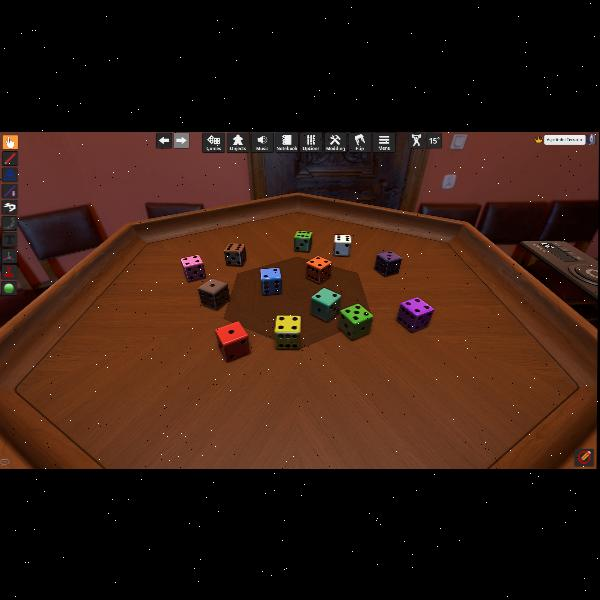d6: (214, 320, 249, 362), (339, 303, 372, 340), (397, 296, 430, 332), (197, 278, 227, 310), (311, 288, 339, 322), (274, 316, 301, 351), (373, 250, 399, 276), (181, 254, 205, 282), (305, 256, 329, 284), (260, 267, 282, 295), (224, 243, 246, 267), (333, 234, 351, 256), (294, 230, 311, 252)
